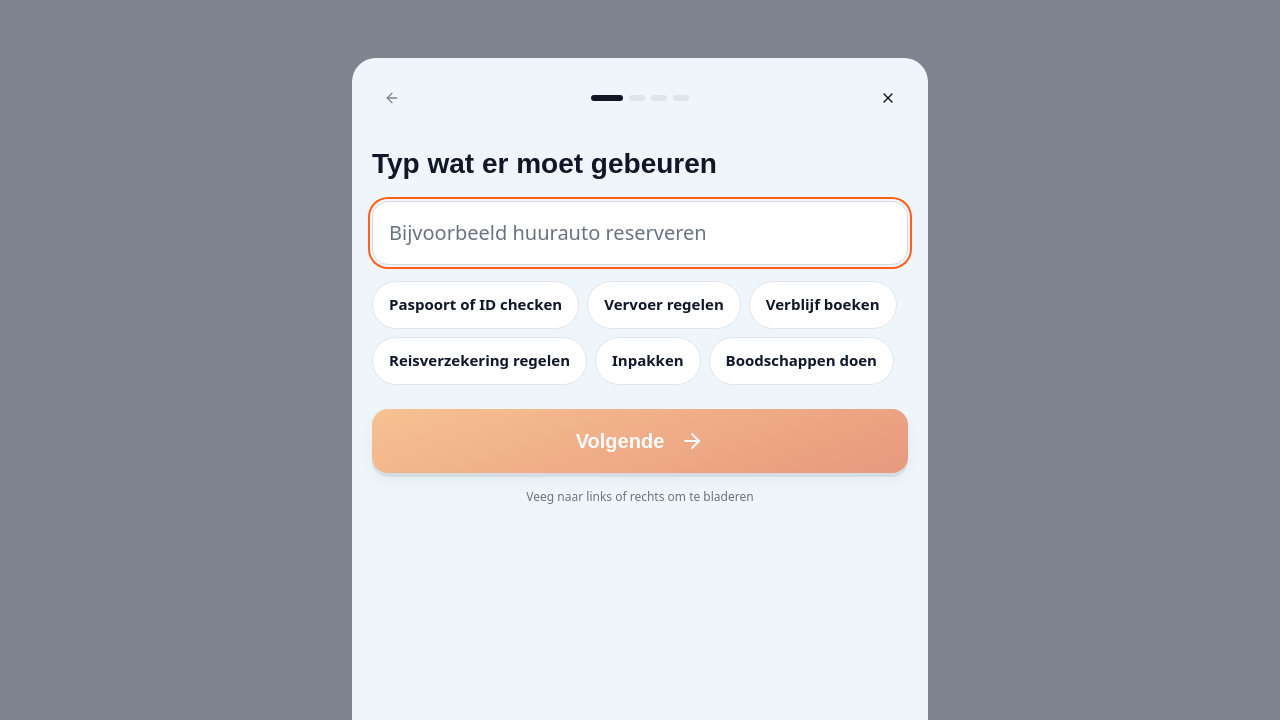
task steps › a traveller who is not the organiser can only pick themselves
Click the button "Inpakken": (648,361) [595,337,701,385]
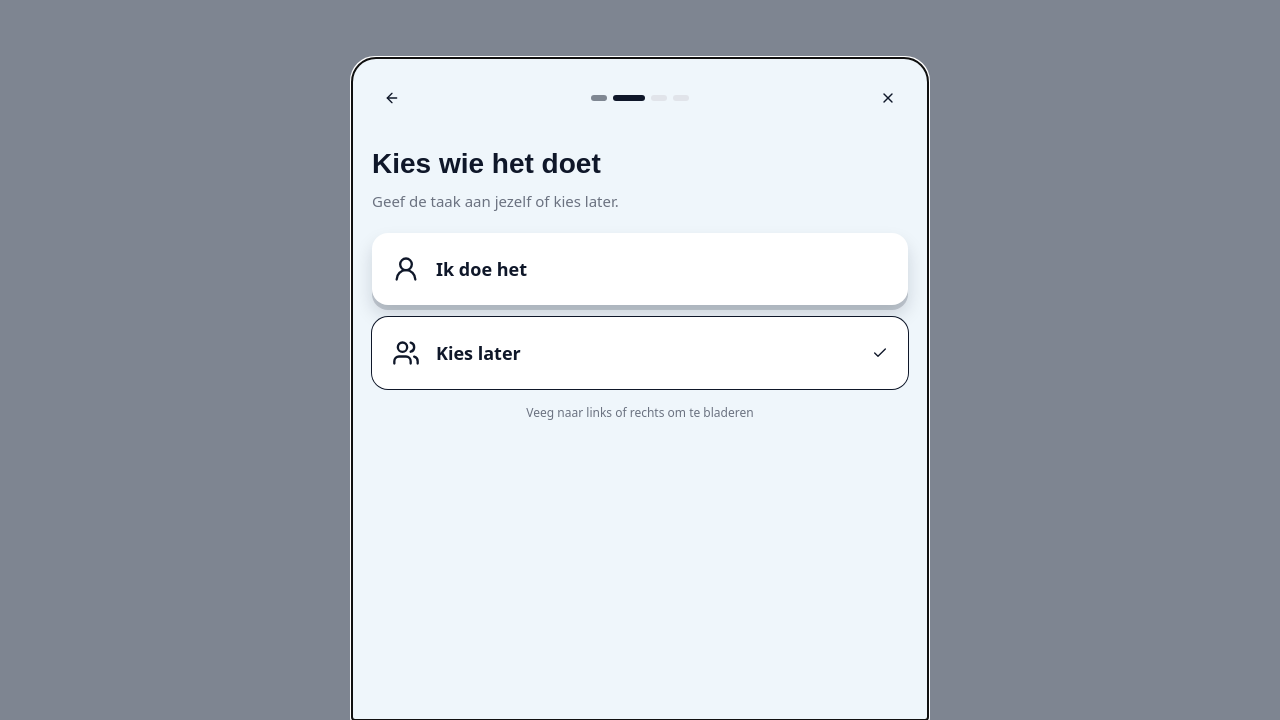
Expected: the button "Ik doe het" is shown, [372,233,908,305]
